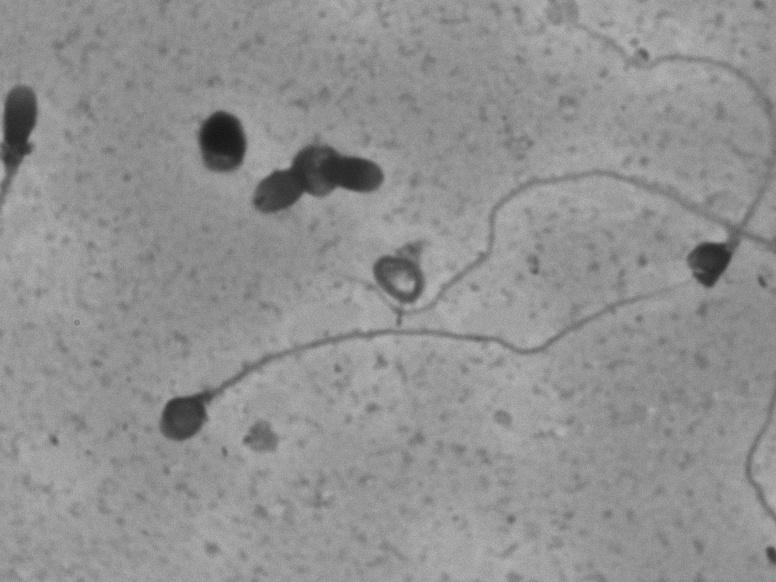Abnormal: (96, 251, 659, 473)
